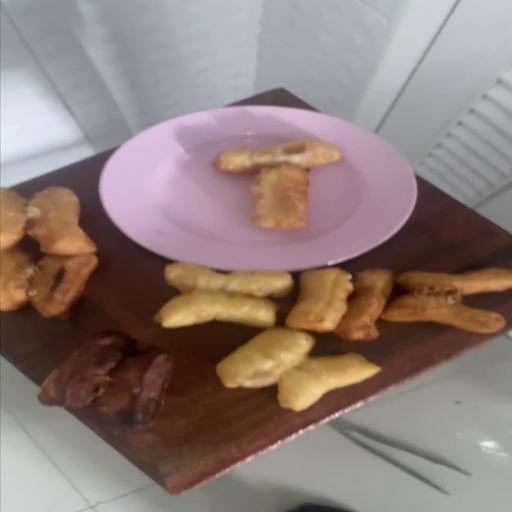street_burnt_defect: (37, 334, 169, 430), (2, 251, 97, 318)
street_golden_good: (1, 187, 97, 254)
